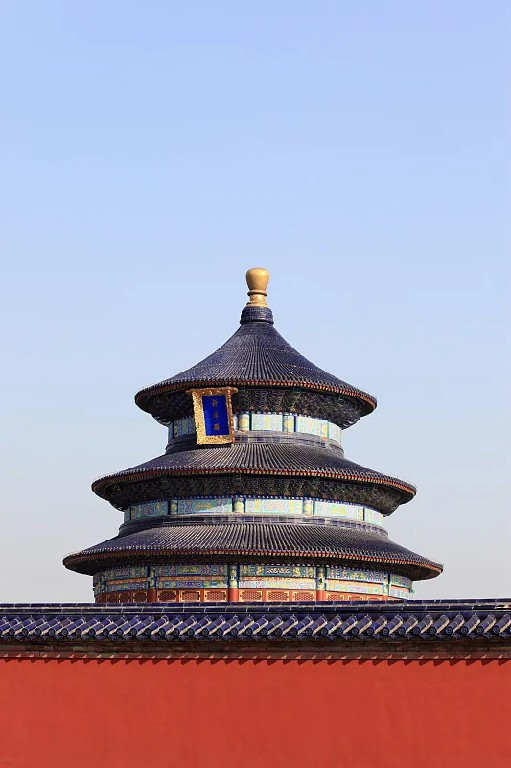Heaven: (62, 267, 443, 601)
